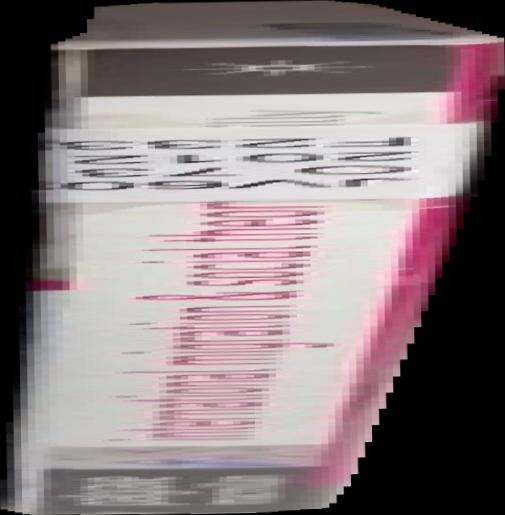reverse: (1, 1, 505, 515)
